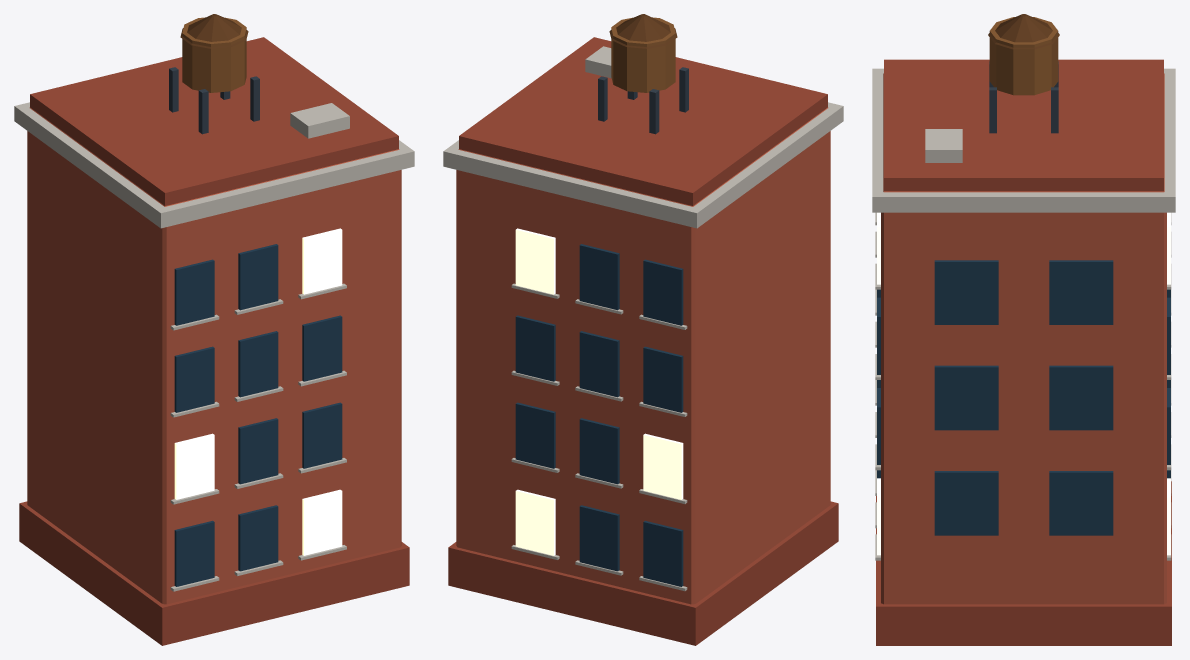
File: hd_bldg_brick.gltf
The picture shows the model from 3 angles, left to right: view 1: azimuth 30°, elevation 25°; view 2: azimuth 150°, elevation 25°; view 3: azimuth 270°, elevation 25°; orthographic projection. The views are drawn at different scales.
Parts seen in each view (by area): view 1: body, parapet, base, cornice, tank, win3_0, win1_1, win0_1, win0_2, win1_0, win1_2, win2_0 (+7 smaller); view 2: body, parapet, base, cornice, tank, win3_0.001, win1_1.001, win0_1.001, win0_2.001, win1_0.001, win1_2.001, win2_0.001 (+7 smaller); view 3: body, parapet, base, cornice, wX1_0, wX1_1, wX0_0, wX0_1, wX2_0, wX2_1, tank, tankTop (+1 smaller).
Boxes of the visible parts, x1,y1,x2,y2 form: body: (27,107,401,604); parapet: (30,37,398,205); base: (19,501,409,645); cornice: (14,102,414,228); tank: (182,17,246,92); win3_0: (174,259,214,325); win1_1: (238,418,278,484); win0_1: (238,505,278,571); win0_2: (302,489,342,555); win1_0: (174,433,214,499); win1_2: (302,402,342,468); win2_0: (174,346,214,412); body: (456,107,830,604); parapet: (459,37,827,205); base: (448,501,838,645); cornice: (443,102,843,228); tank: (611,17,675,92); win3_0.001: (643,259,683,325); win1_1.001: (579,418,619,484); win0_1.001: (579,505,619,571); win0_2.001: (515,489,555,555); win1_0.001: (643,433,683,499); win1_2.001: (515,402,555,468); win2_0.001: (643,346,683,412); body: (881,73,1166,604); parapet: (884,59,1163,191); base: (876,481,1171,645); cornice: (872,68,1175,212); wX1_0: (934,365,998,430); wX1_1: (1049,365,1113,430); wX0_0: (934,471,998,535); wX0_1: (1049,471,1113,535); wX2_0: (934,260,998,324); wX2_1: (1049,260,1113,324); tank: (989,17,1058,95); tankTop: (988,14,1059,49).
Bounding box in the file's own units: 4.88 × 10.07 × 4.88.
